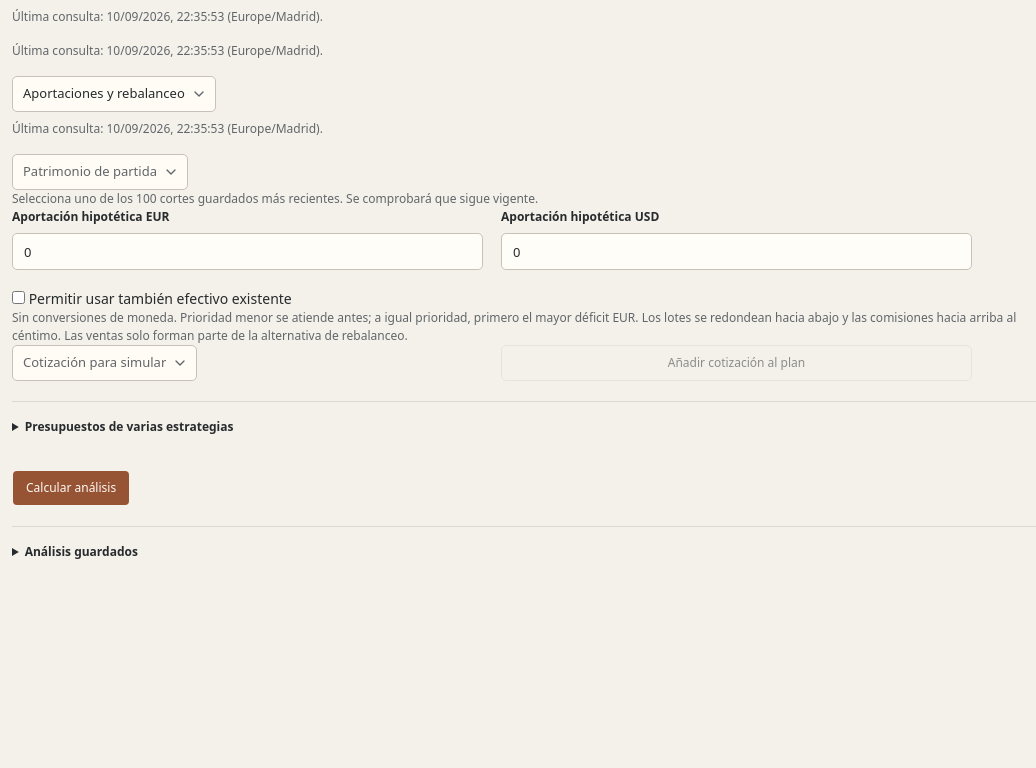
saves only the frozen reviewed body without modifying the book
Click the button "Calcular análisis". click: (71, 488)
box: [12,470,130,506]
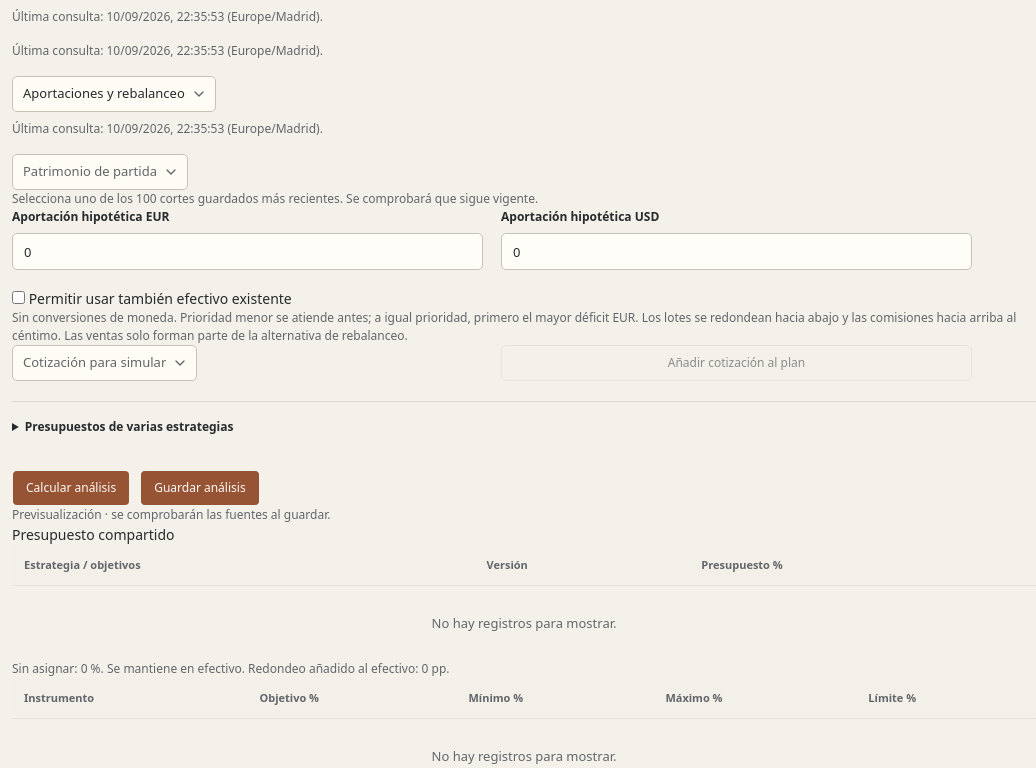
Now the button "Guardar análisis" is shown
Click the button "Guardar análisis". click: (200, 488)
box: [140,470,260,506]
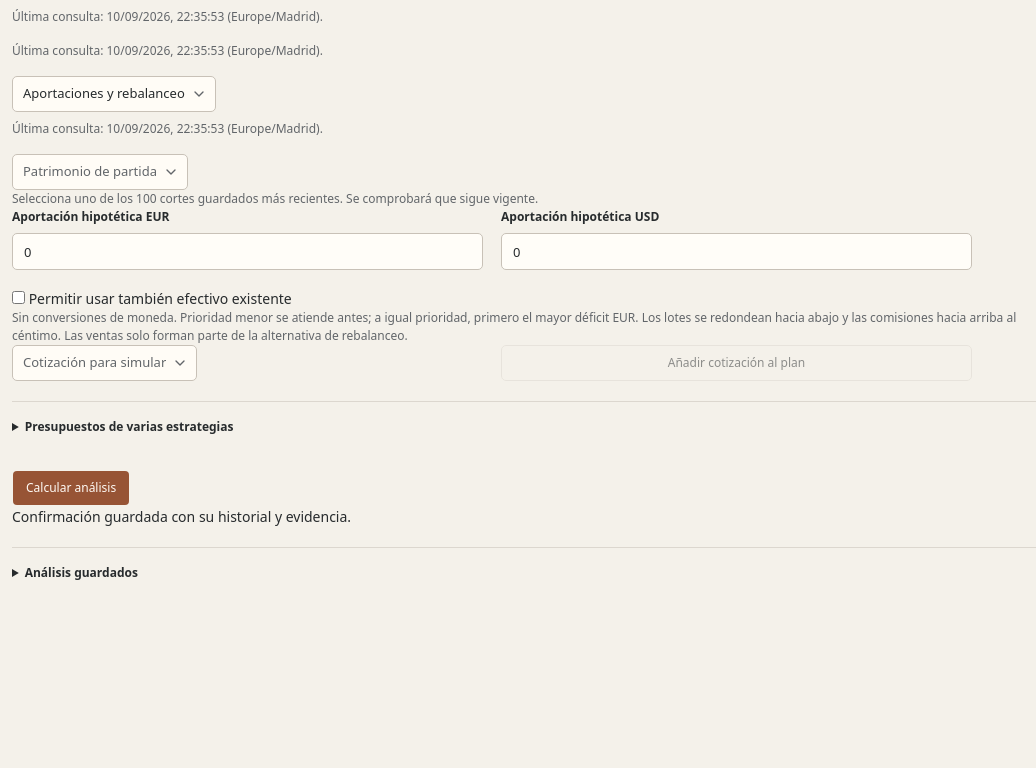
Now the text "Confirmación guardada con su historial y evidencia." is shown, box [12,507,351,526]
